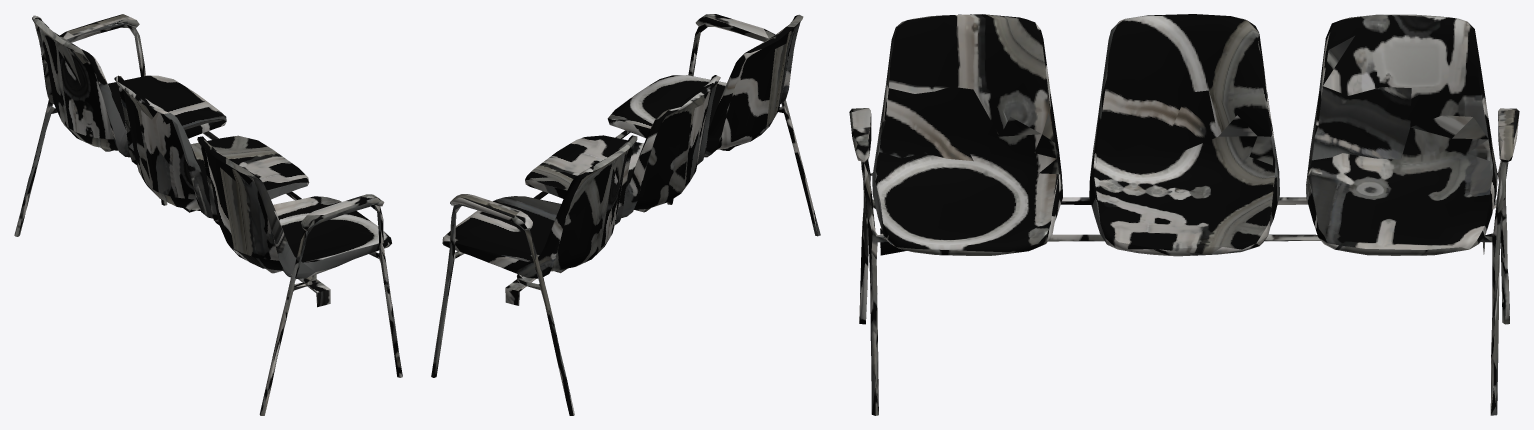
The picture shows the model from 3 angles, left to right: view 1: azimuth 30°, elevation 25°; view 2: azimuth 150°, elevation 25°; view 3: azimuth 270°, elevation 25°; orthographic projection. The views are drawn at different scales.
Parts seen in each view (by area): view 1: repaired; view 2: repaired; view 3: repaired.
Part boxes in pixels (bbox=[...]): repaired: bbox=[14, 14, 402, 415]; repaired: bbox=[431, 14, 820, 415]; repaired: bbox=[849, 14, 1519, 415].
Bounding box in the file's own units: 0.3533 × 0.505 × 1.
